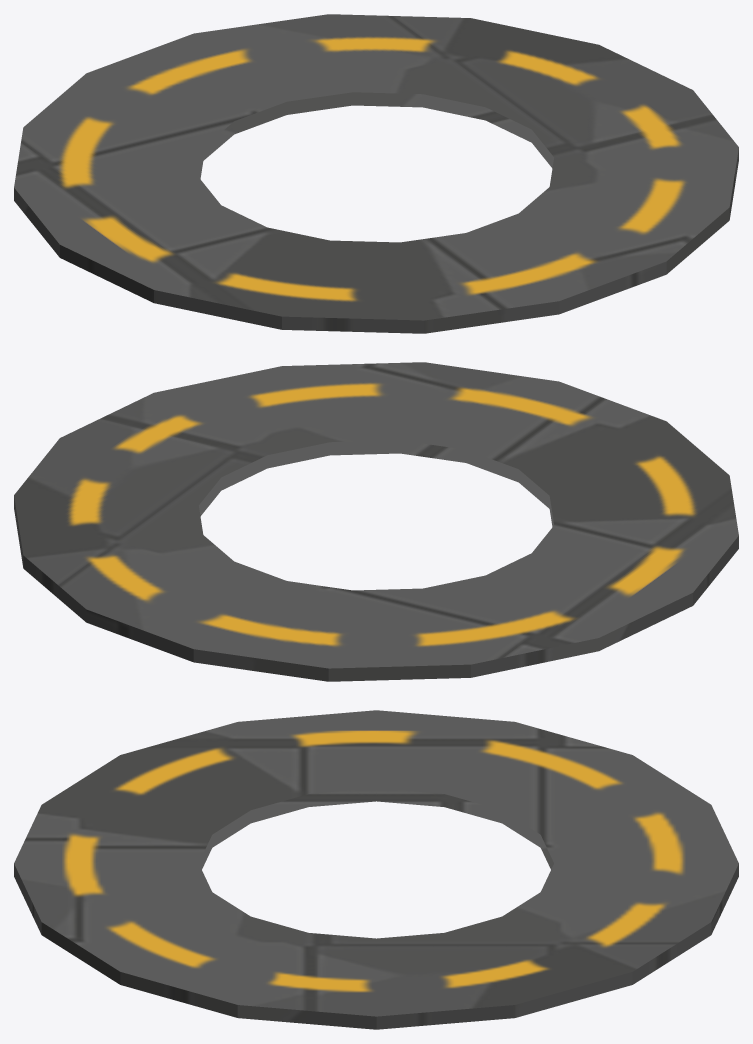
The model's file is carretera3.fbx.
3 renders of one model, top to bottom at view 1: azimuth 30°, elevation 25°; view 2: azimuth 150°, elevation 25°; view 3: azimuth 270°, elevation 25°, orthographic.
Visible parts, largest first — view 1: pCylinder1; view 2: pCylinder1; view 3: pCylinder1.
Part boxes in pixels (bbox=[...]): pCylinder1: bbox=[14, 14, 738, 333]; pCylinder1: bbox=[14, 362, 738, 681]; pCylinder1: bbox=[14, 710, 738, 1029].
Size of the model in its own units: 10 by 0.2 by 10.
